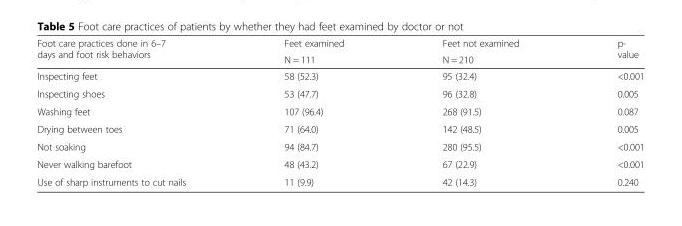table: (36, 37, 643, 187)
table column: (36, 37, 234, 187), (392, 37, 567, 187), (234, 37, 392, 187), (567, 37, 643, 187)
table column header: (36, 37, 643, 67)
table row: (36, 84, 643, 102), (36, 119, 643, 137), (36, 137, 643, 155), (36, 50, 643, 67), (36, 67, 643, 84), (36, 102, 643, 119), (36, 155, 643, 172), (36, 172, 643, 187), (36, 37, 643, 50)
table spanning cell: (36, 37, 234, 67), (392, 37, 567, 67), (234, 37, 392, 67), (567, 37, 643, 67)
